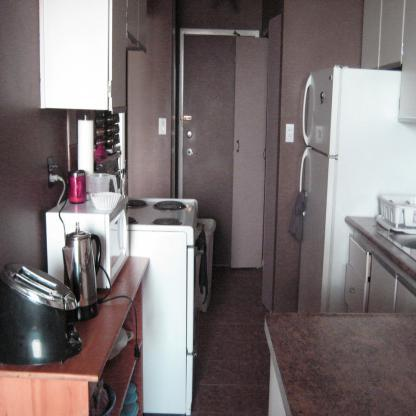door: (182, 32, 235, 266)
lever: (188, 151, 198, 156)
